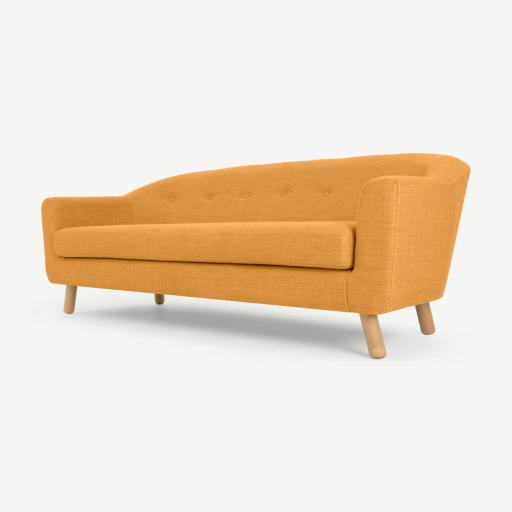back_cushion: (128, 158, 384, 223)
base: (51, 258, 350, 312)
left_arm: (345, 173, 468, 313)
legs: (360, 314, 386, 359), (416, 303, 435, 334), (64, 286, 76, 313), (155, 294, 164, 304)
one-seater: (42, 153, 469, 358)
right_arm: (42, 196, 133, 282)
seat_cushion: (53, 221, 356, 269)
